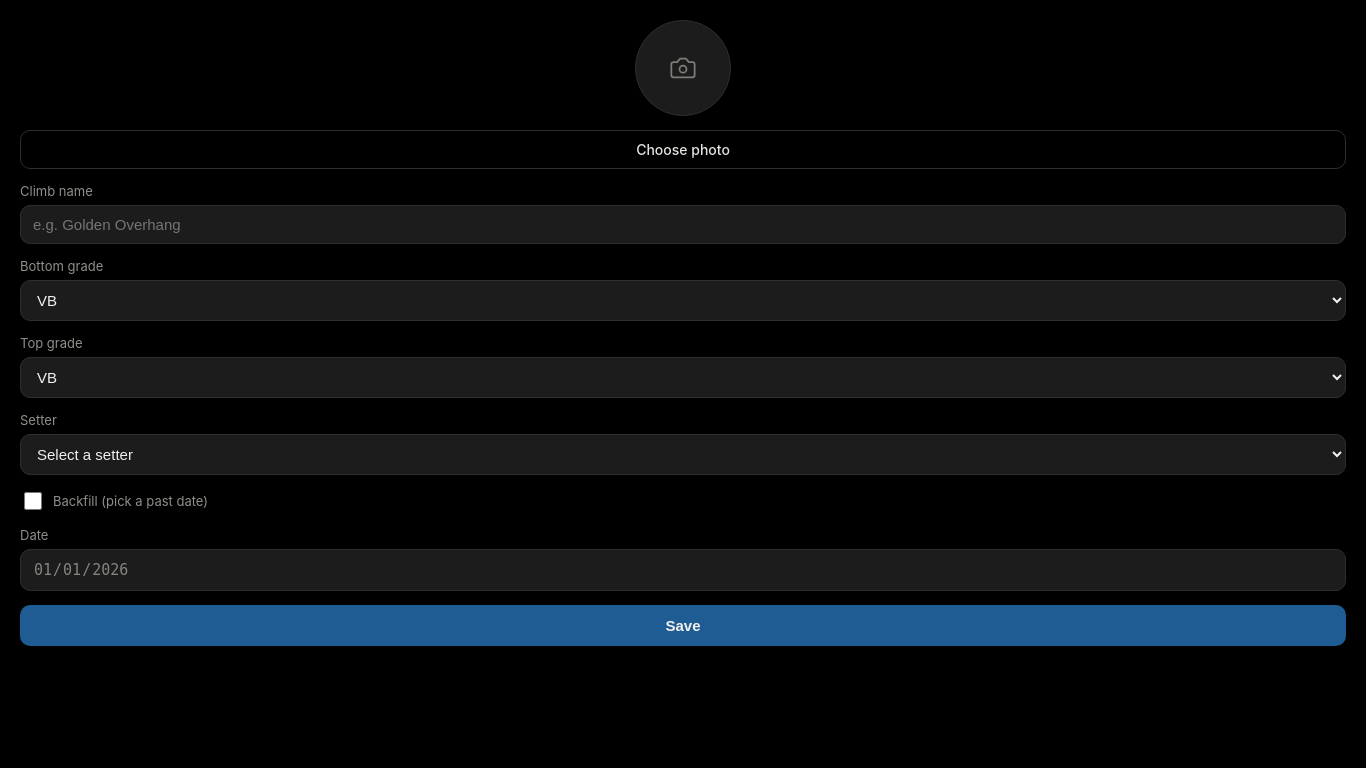
it: NewClimbForm › rejects a bottom grade harder than the top grade
Step 1. Type "Golden Overhang" into the field labelled "Climb name" → {"x": 683, "y": 224}, box [20,205,1346,244]
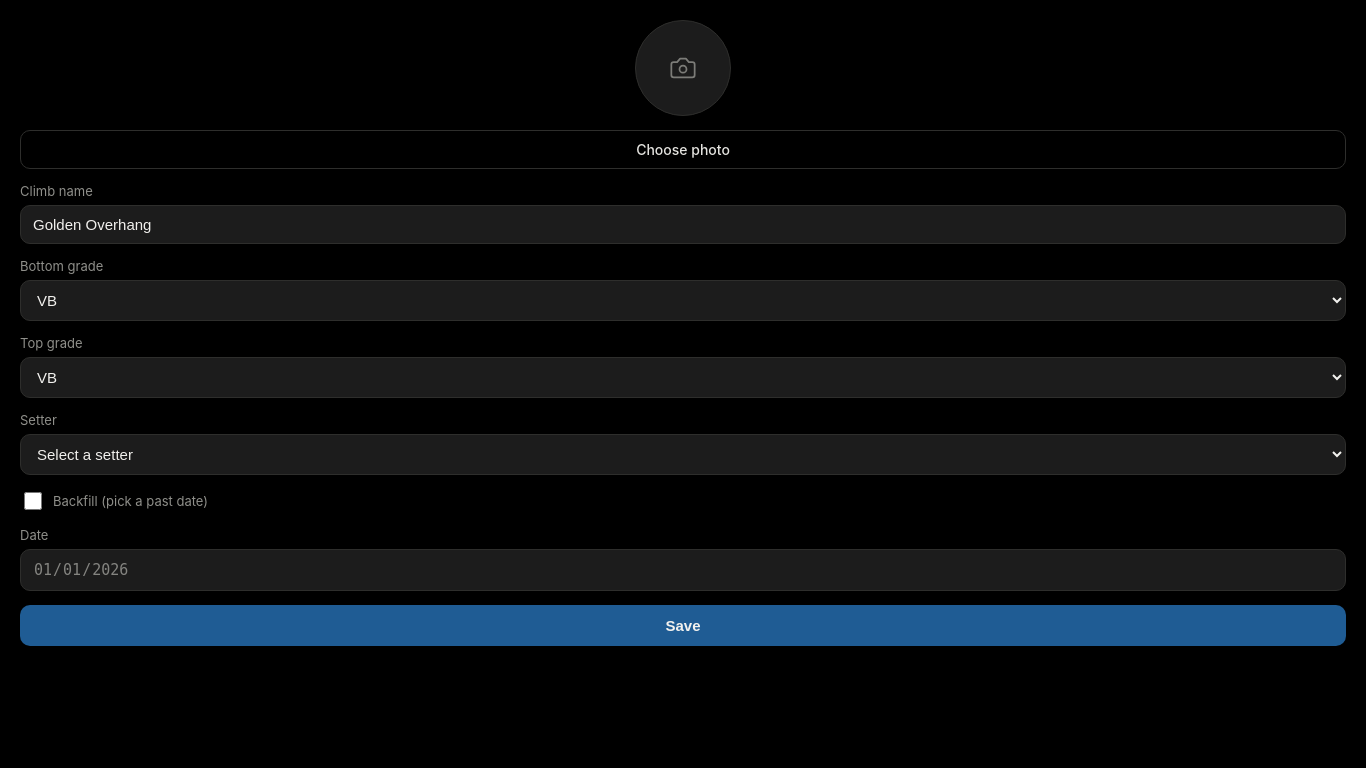
Step 2. Select "Alice A (alice)" in the dropdown labelled "Setter" → {"x": 683, "y": 454}, box [20,434,1346,475]
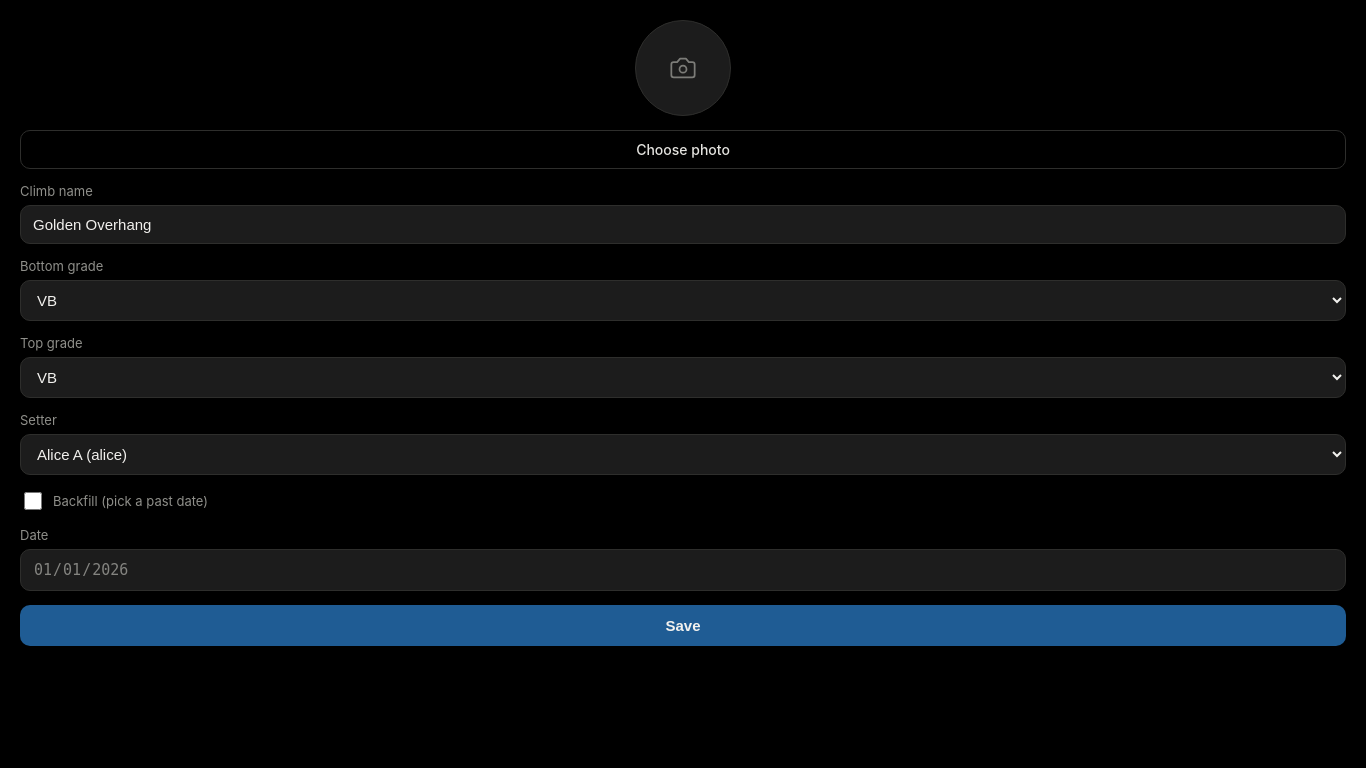
Step 3. Select "V5" in the dropdown labelled "Bottom grade" → {"x": 683, "y": 300}, box [20,280,1346,321]
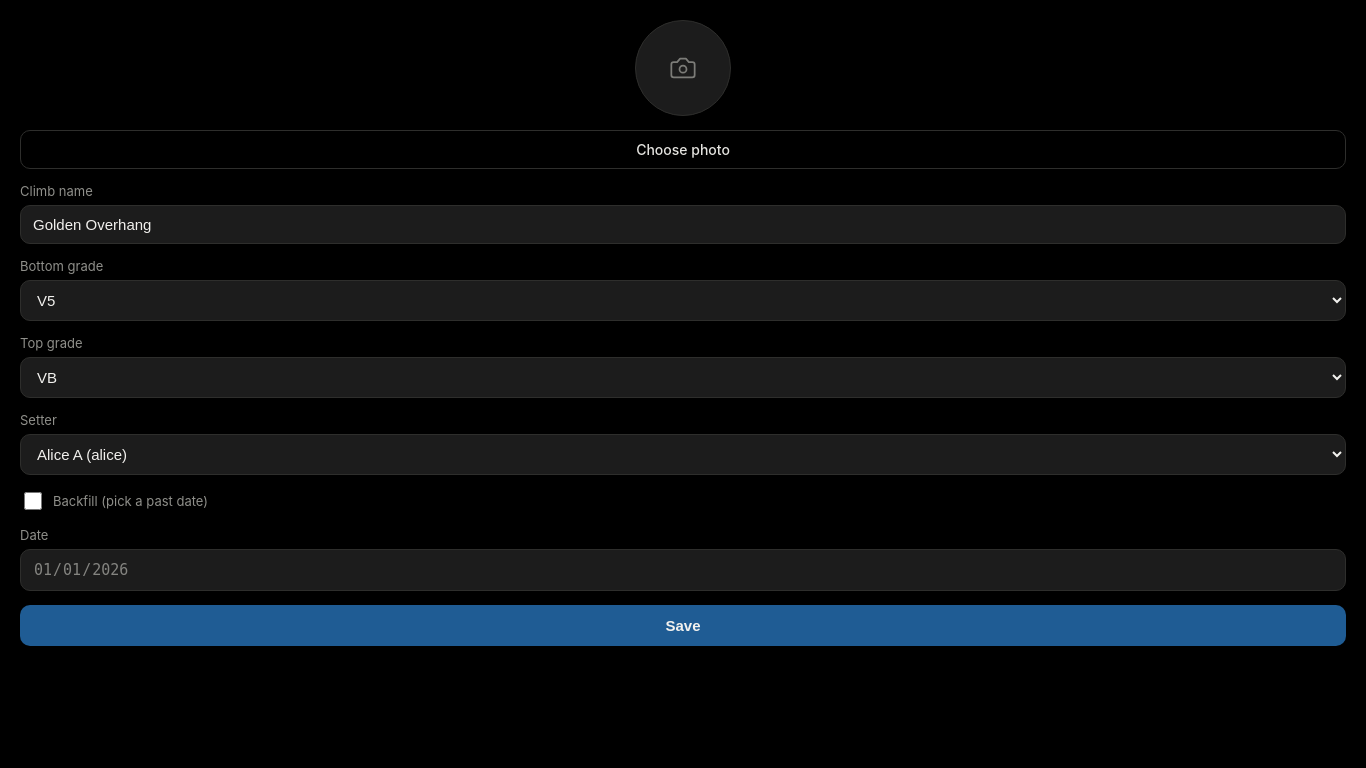
Step 4. Select "V2" in the dropdown labelled "Top grade" → {"x": 683, "y": 378}, box [20,357,1346,398]
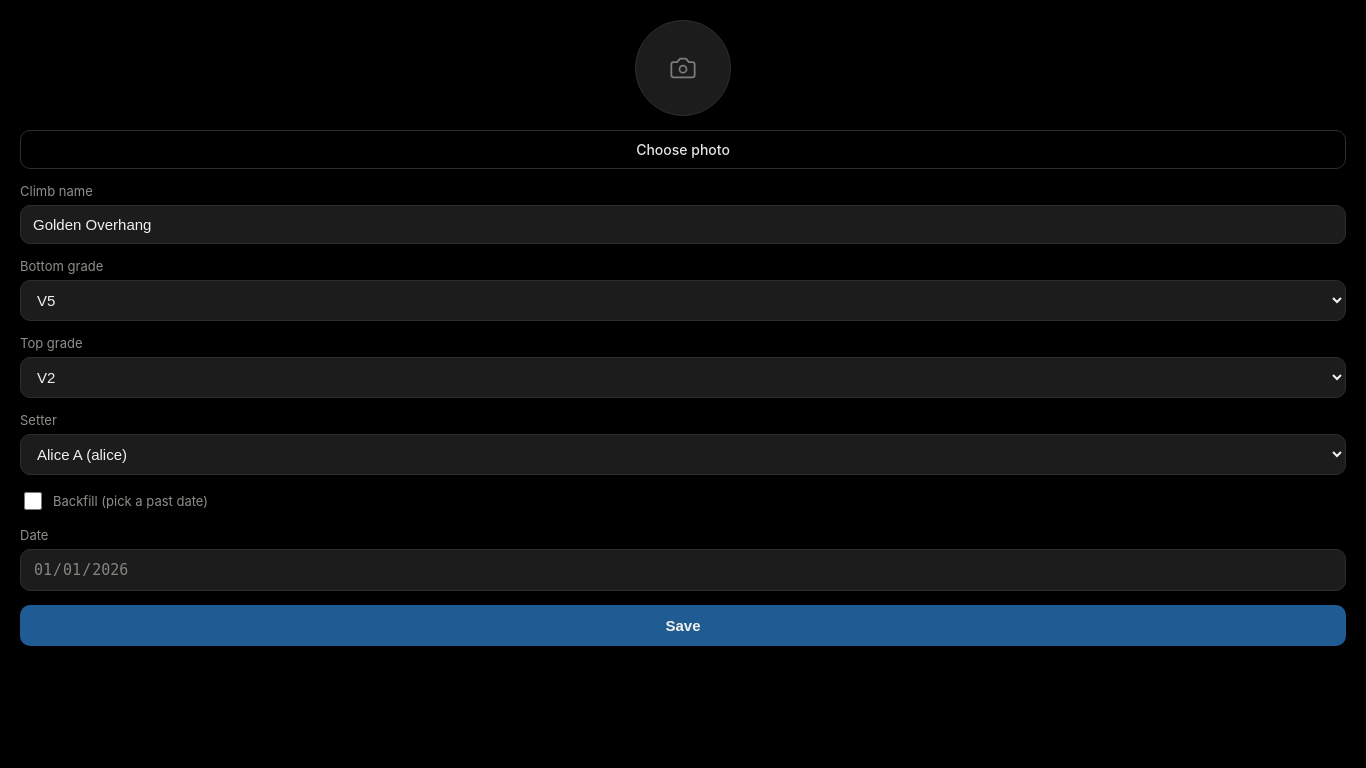
Step 5. Click the button "Save" → {"x": 683, "y": 626}, box [20,605,1346,646]
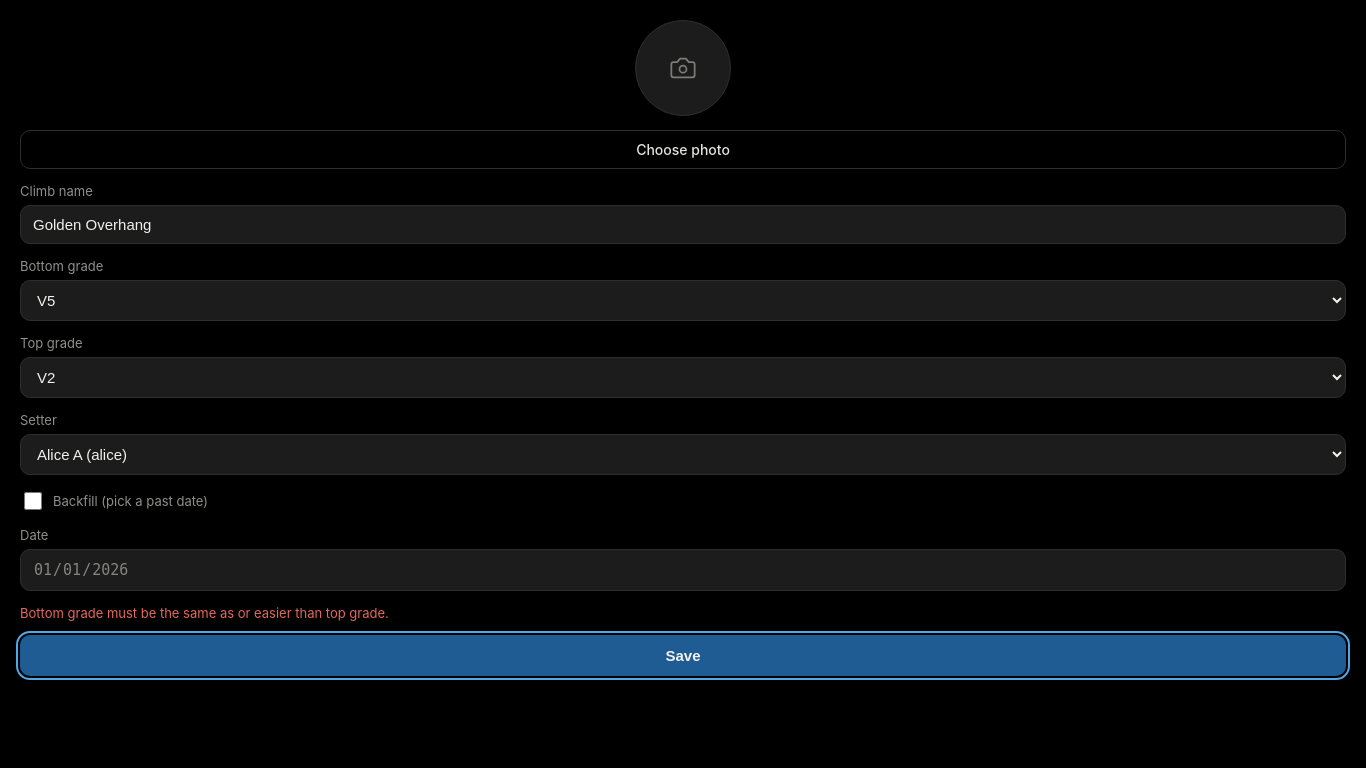
Expected: the message reads "Bottom grade must be the same as or easier than top grade.", [20,605,389,621]
